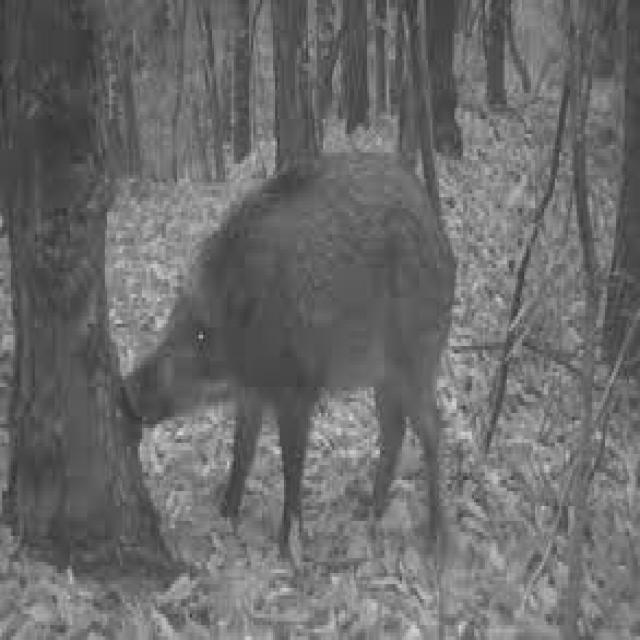boar: (85, 104, 517, 601)
